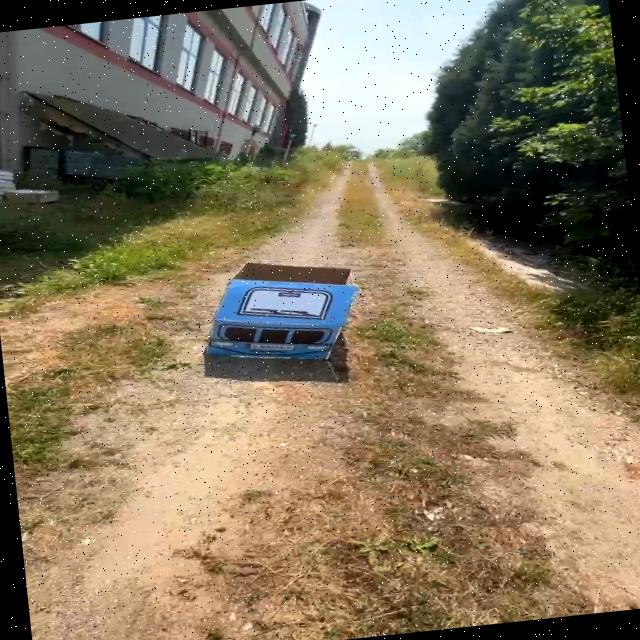blue_car: (170, 239, 386, 385)
